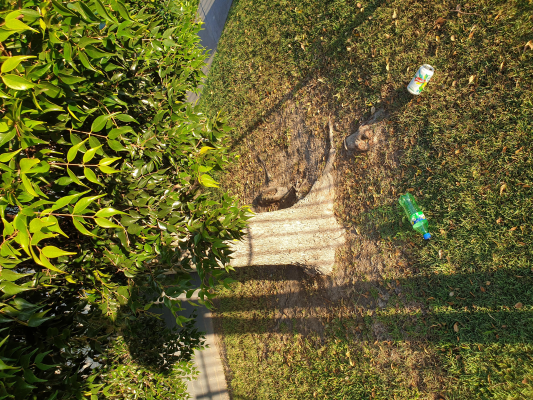Plastic Bottle: (398, 192, 431, 240), (407, 64, 434, 95)
